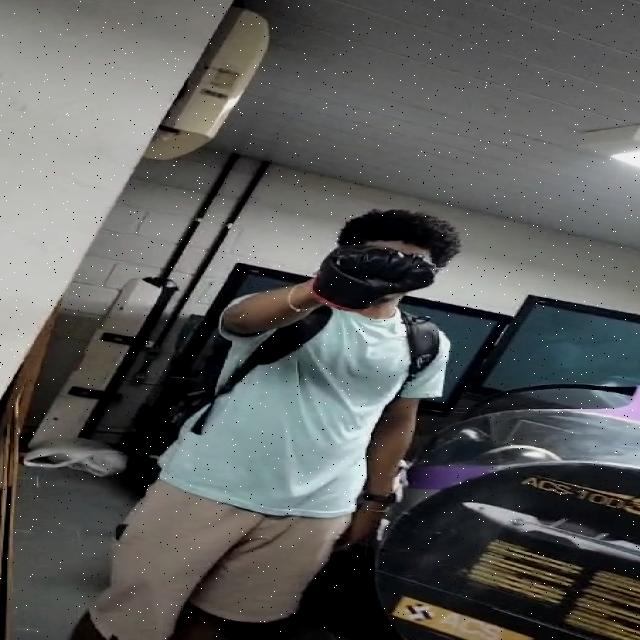Gloves: (312, 247, 439, 310)
